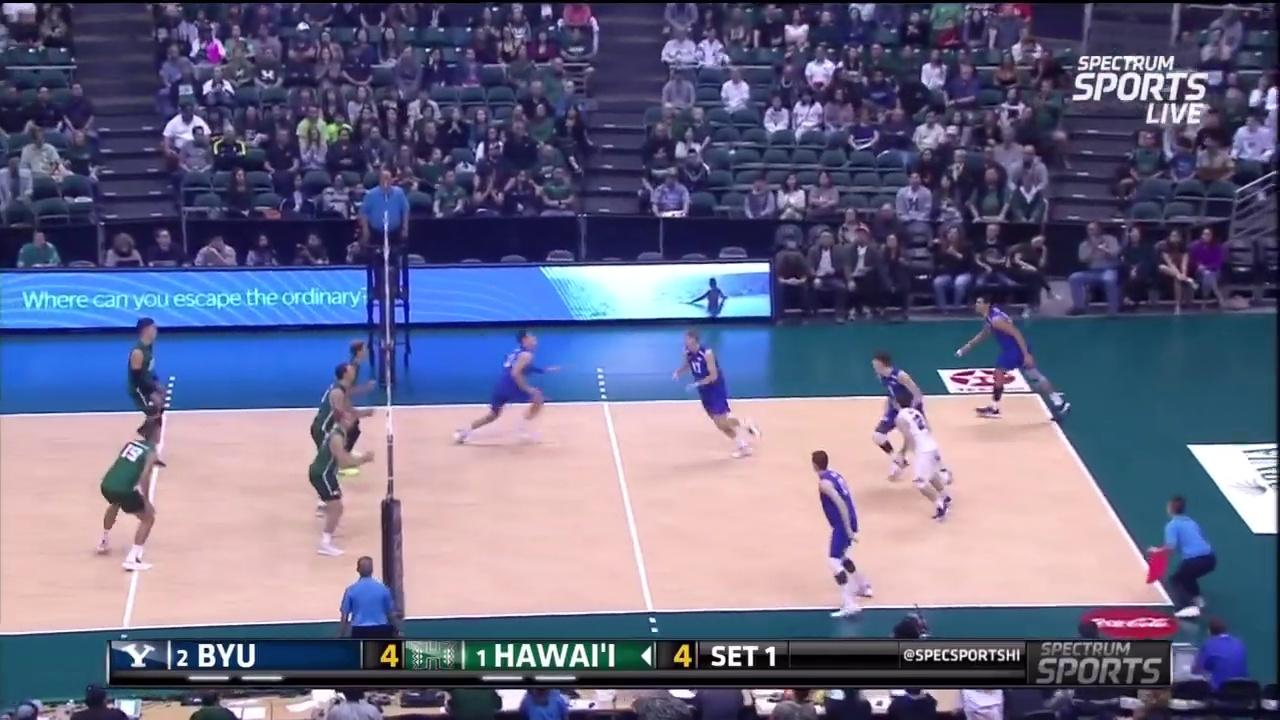player: (956, 290, 1074, 422), (93, 423, 166, 576), (458, 331, 553, 447), (811, 450, 873, 617), (678, 332, 760, 455), (307, 406, 374, 556), (861, 343, 931, 483), (889, 395, 952, 525), (308, 362, 360, 519), (324, 335, 377, 474), (125, 316, 171, 464)
refree: (1148, 488, 1218, 616), (341, 558, 406, 639), (358, 168, 409, 268)
